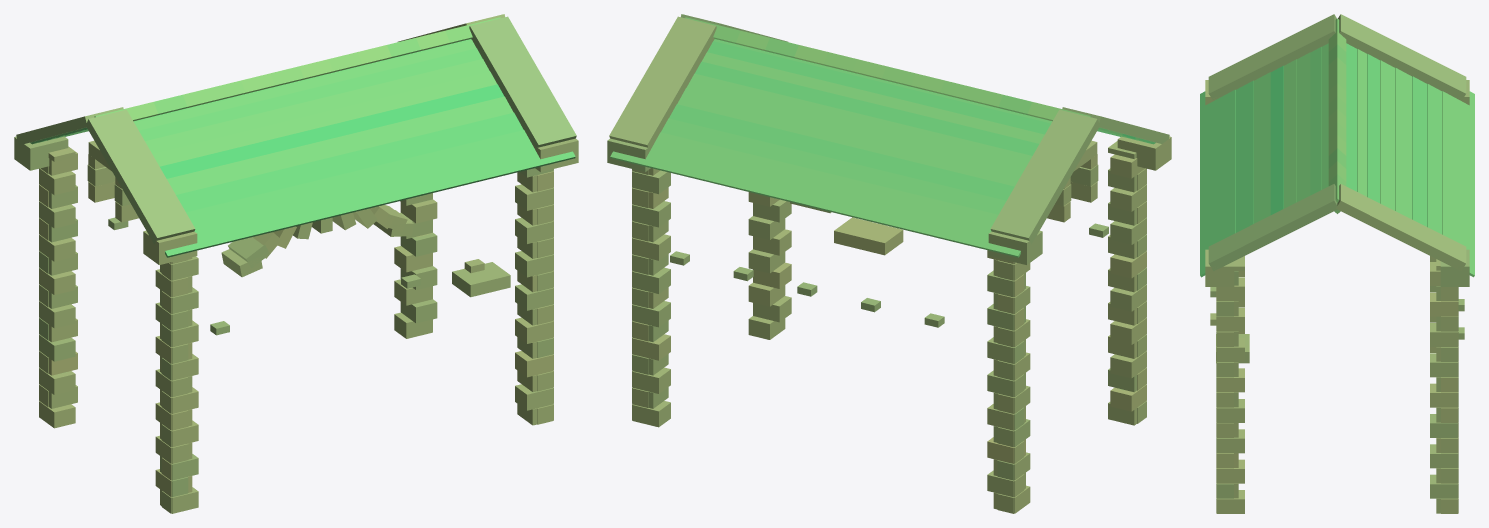
The model's file is SM_Bld_120_Stone.glb.
The picture shows the model from 3 angles, left to right: view 1: azimuth 30°, elevation 25°; view 2: azimuth 150°, elevation 25°; view 3: azimuth 270°, elevation 25°; orthographic projection. The views are drawn at different scales.
Visible parts, largest first — view 1: SM_Bld_120_Stone; view 2: SM_Bld_120_Stone; view 3: SM_Bld_120_Stone.
Part boxes in pixels (bbox=[...]): SM_Bld_120_Stone: bbox=[14, 14, 578, 513]; SM_Bld_120_Stone: bbox=[607, 14, 1171, 513]; SM_Bld_120_Stone: bbox=[1200, 14, 1474, 513].
Size of the model in its own units: 7.91 by 6.35 by 4.92.
